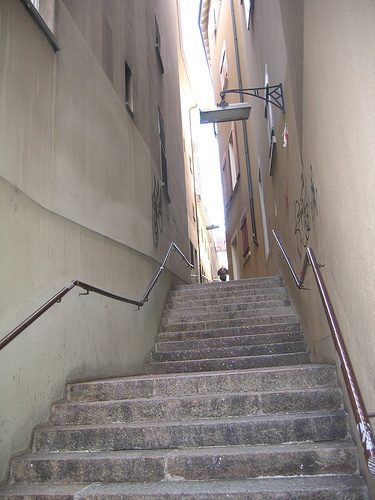stairs_up: (4, 278, 375, 500)
